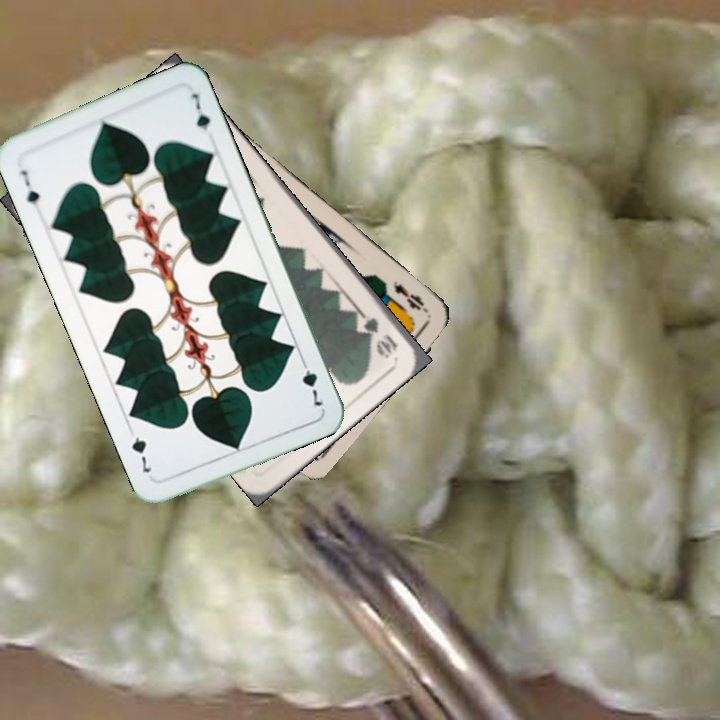EO: (388, 276, 432, 316)
G10: (351, 308, 400, 360)
G7: (297, 353, 326, 409), (14, 166, 43, 208)
